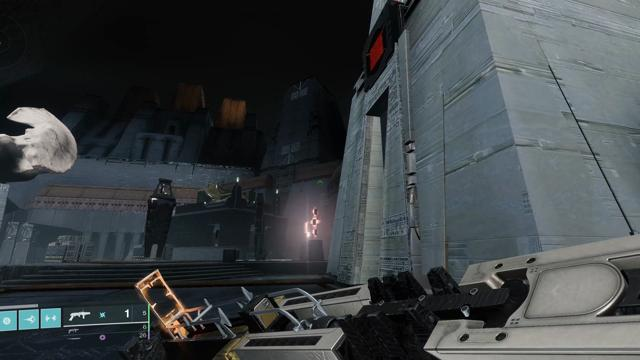stop: (366, 21, 388, 78)
